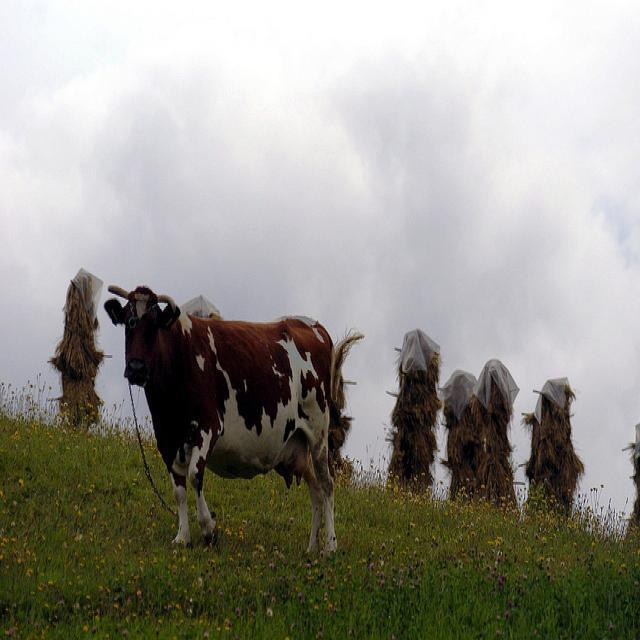cow: (102, 284, 363, 563)
